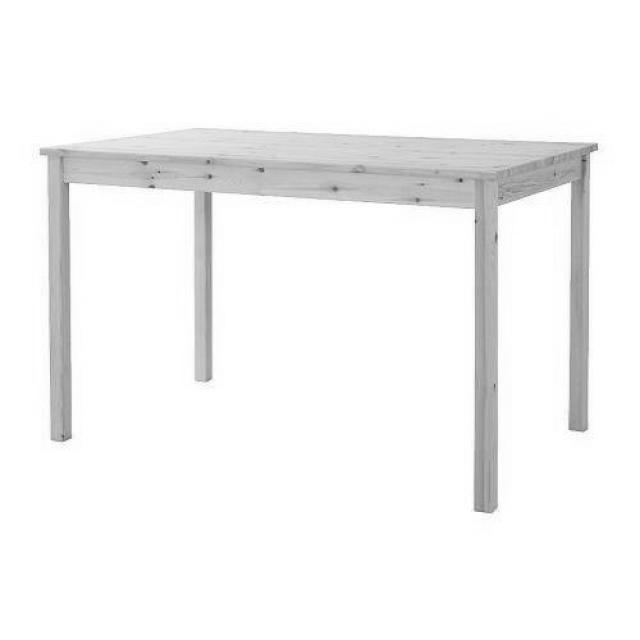table: (44, 126, 596, 513)
